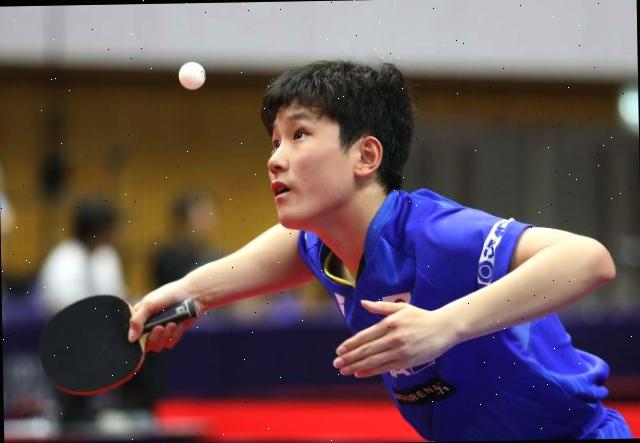ball: (173, 54, 208, 91)
